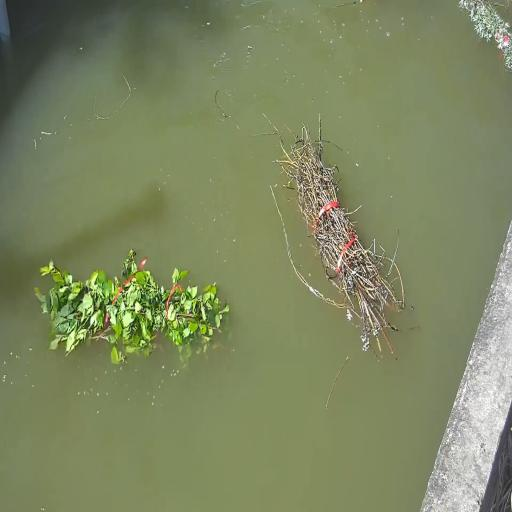twig: (277, 119, 405, 353), (35, 249, 229, 362), (459, 0, 512, 70)
